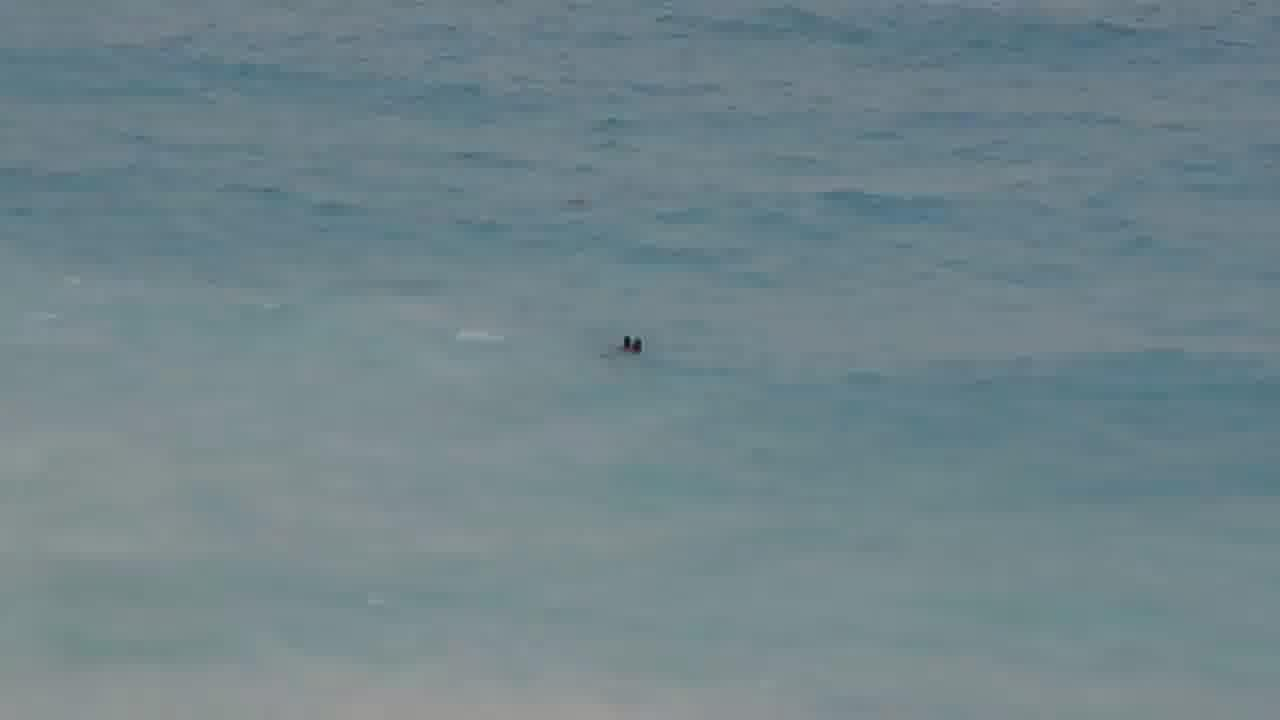human: (606, 324, 655, 361)
